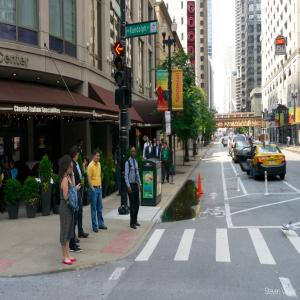Vehicle-registration-plate: (271, 160, 277, 166), (243, 151, 247, 156)
